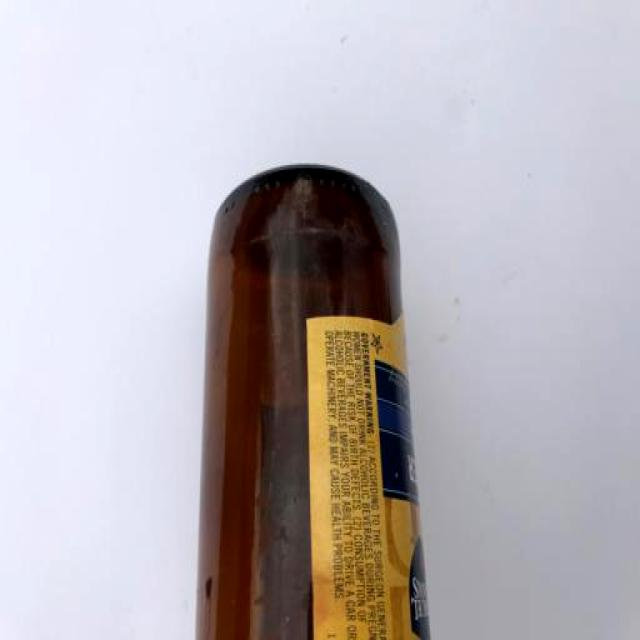Glass: (188, 160, 435, 640)
